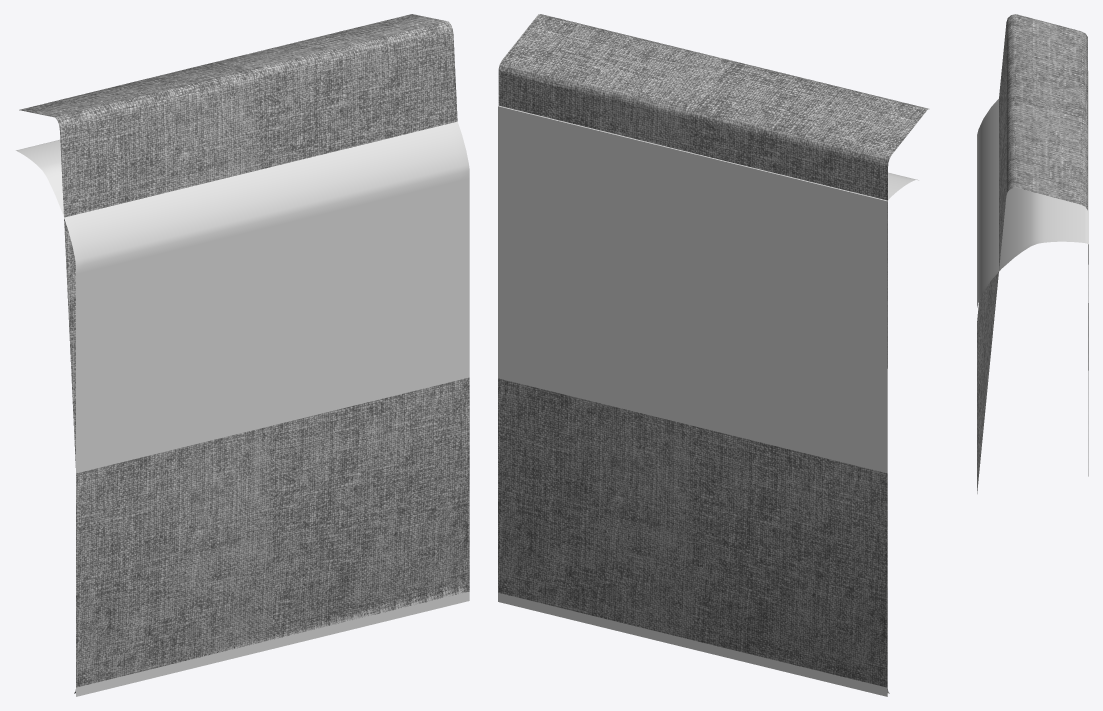
The model's file is singleback.gltf.
The picture shows the model from 3 angles, left to right: view 1: azimuth 30°, elevation 25°; view 2: azimuth 150°, elevation 25°; view 3: azimuth 270°, elevation 25°; orthographic projection. The views are drawn at different scales.
Parts seen in each view (by area): view 1: SingleBack; view 2: SingleBack; view 3: SingleBack.
Part boxes in pixels (x1,y1,x2,y2): SingleBack: [16, 14, 469, 696]; SingleBack: [498, 14, 929, 696]; SingleBack: [977, 14, 1088, 493].
Bounding box in the file's own units: 0.5599 × 0.7663 × 0.1524.
Materials: 2 (1 with a texture image).
